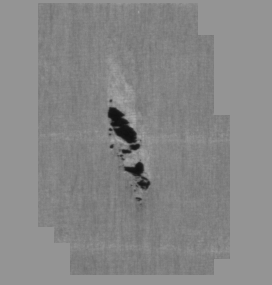oxl: (35, 10, 237, 275)
